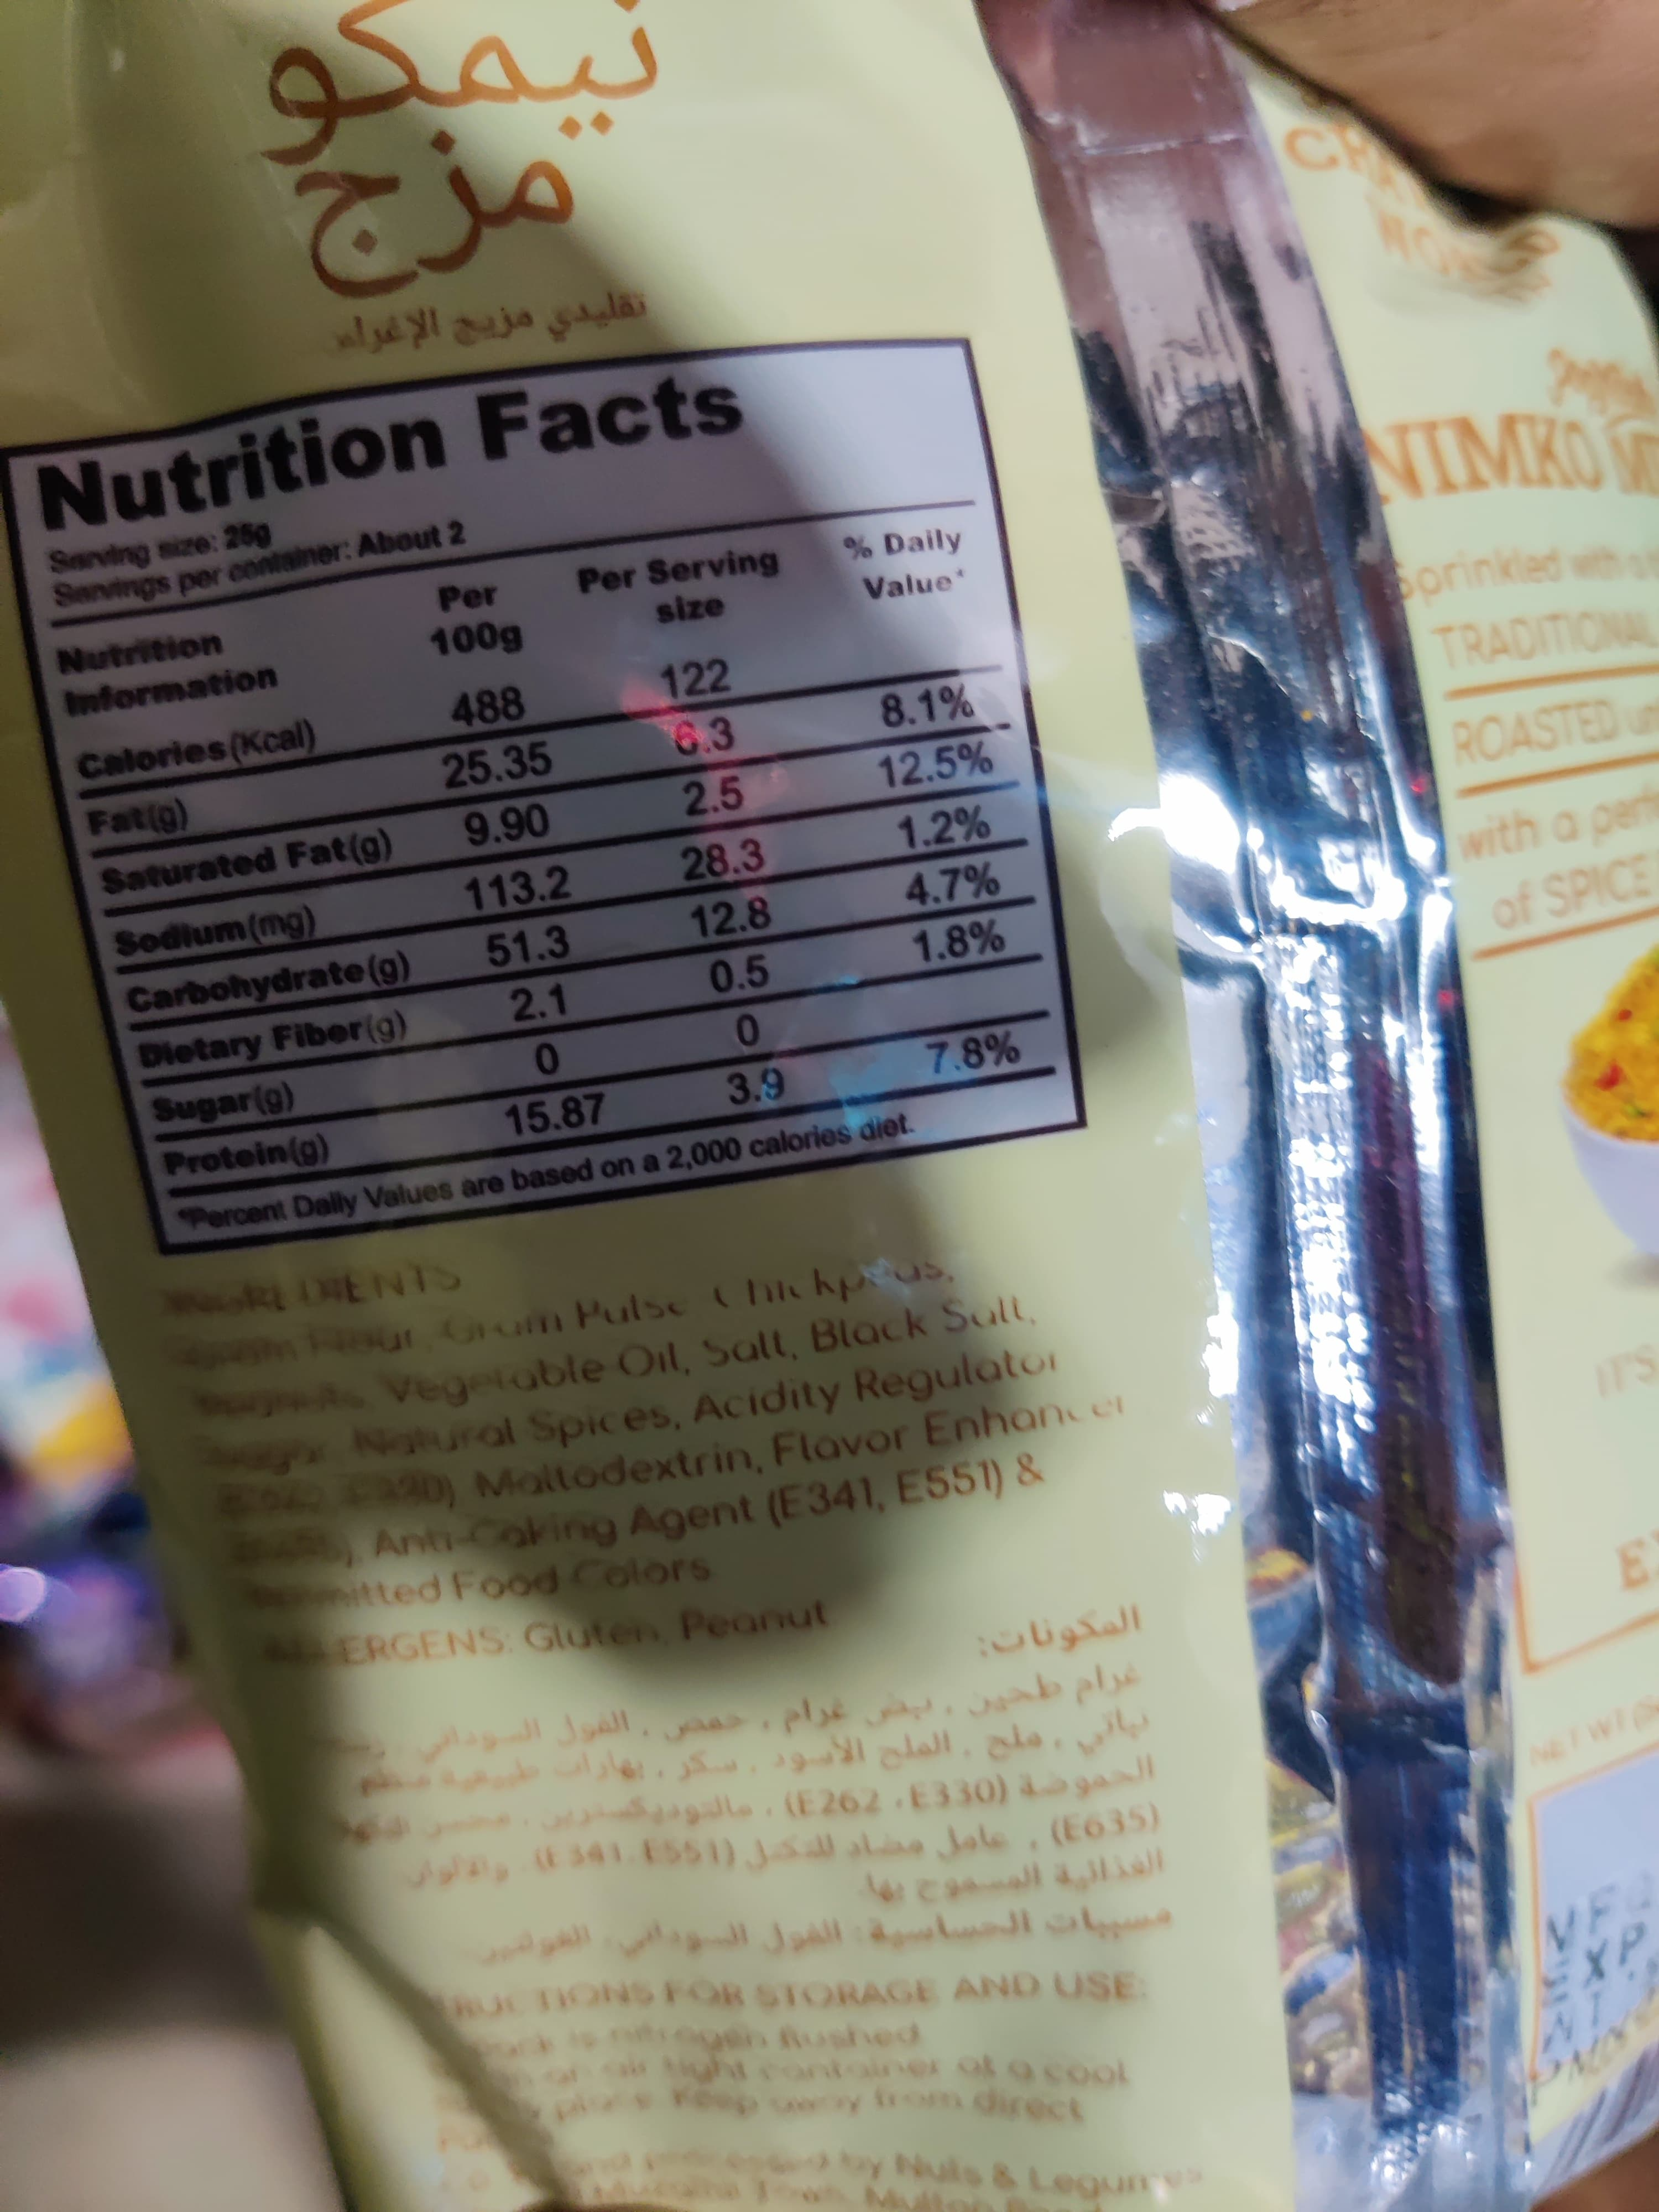table: (0, 333, 1087, 1256)
